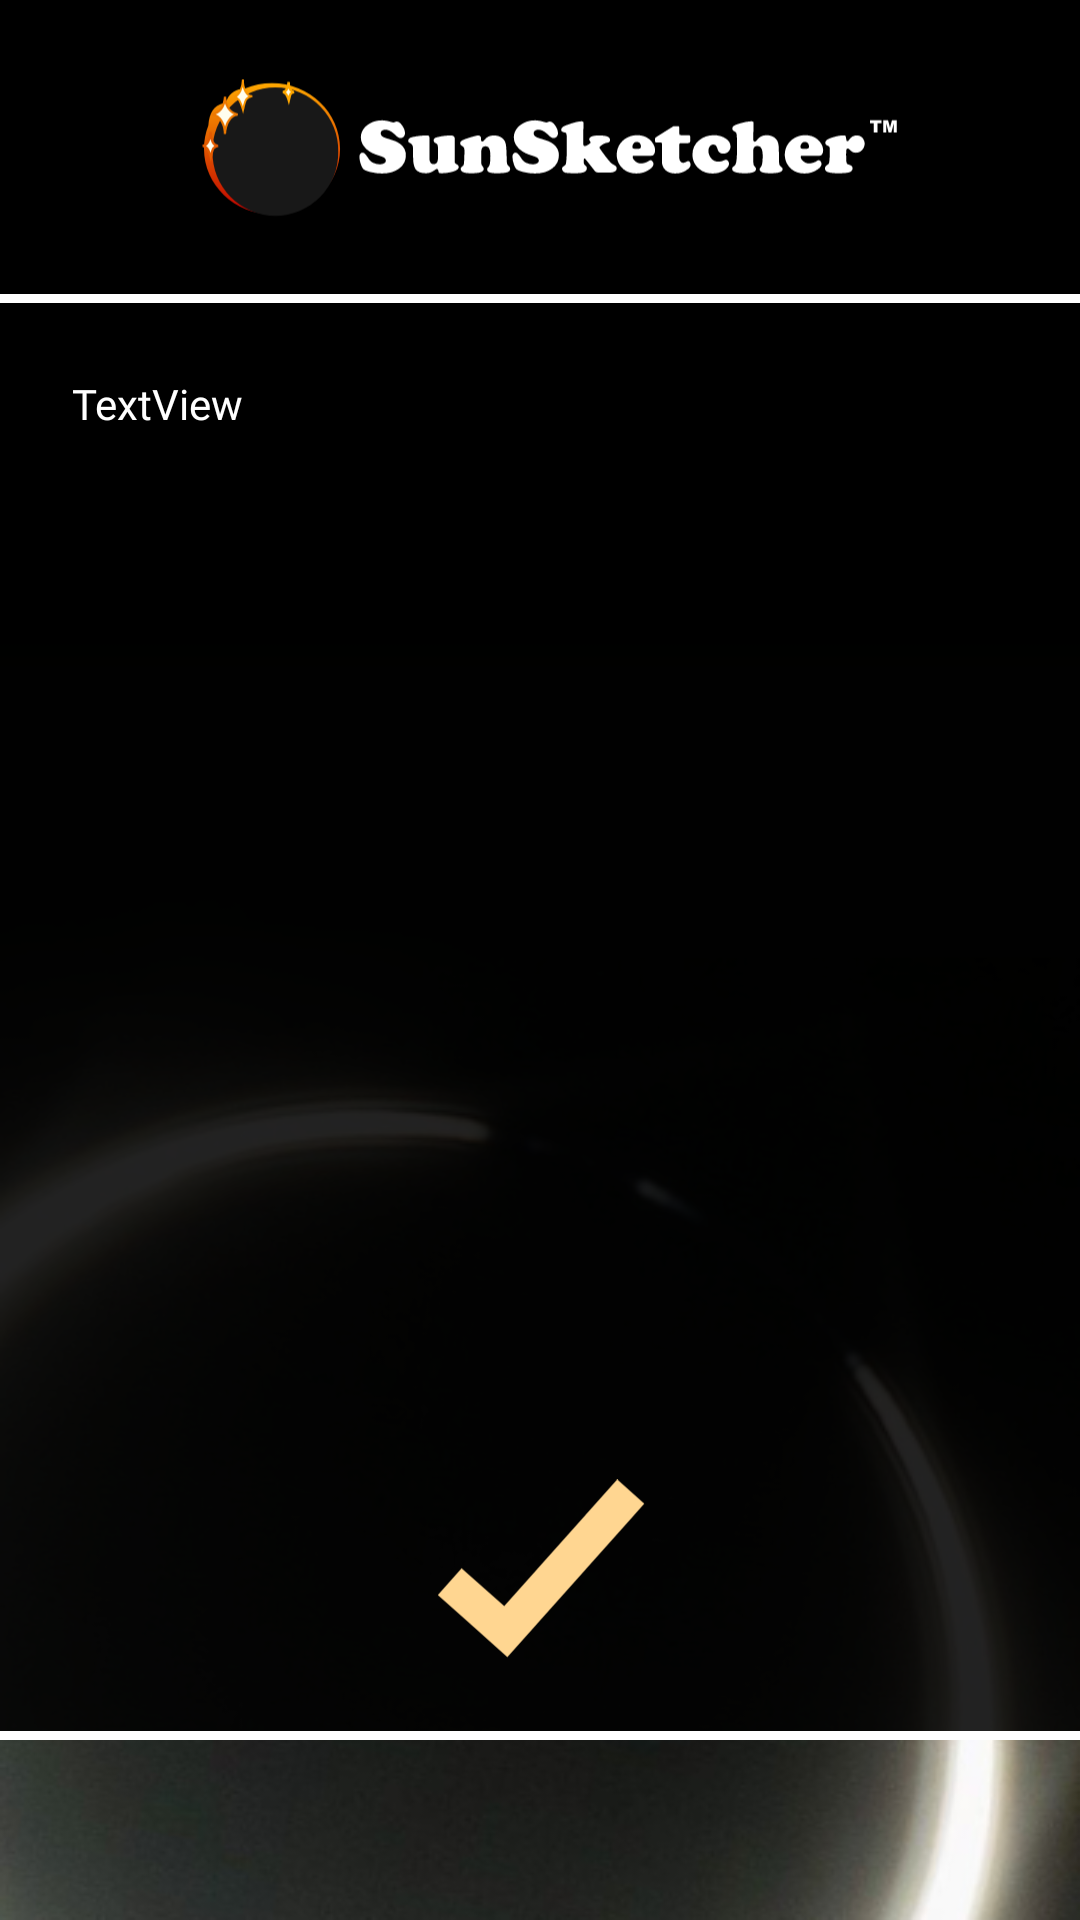

Where to tap for icons on this 1080x1920 app screen, as (x=x, y=y):
Done: (x=541, y=1568)
